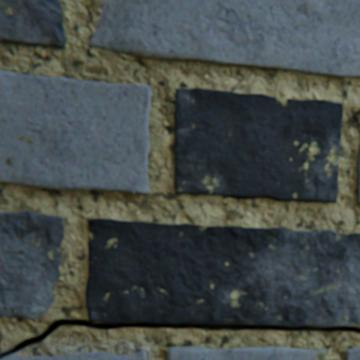brick: (87, 219, 359, 327), (89, 0, 359, 78), (174, 89, 342, 202), (0, 71, 152, 194), (0, 211, 64, 320), (0, 0, 67, 49), (168, 347, 326, 359), (345, 348, 359, 359), (357, 147, 359, 203)
broken_brick: (0, 351, 146, 359)
crack: (0, 319, 359, 358)
